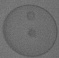small: (27, 27, 37, 37), (26, 11, 35, 22)
